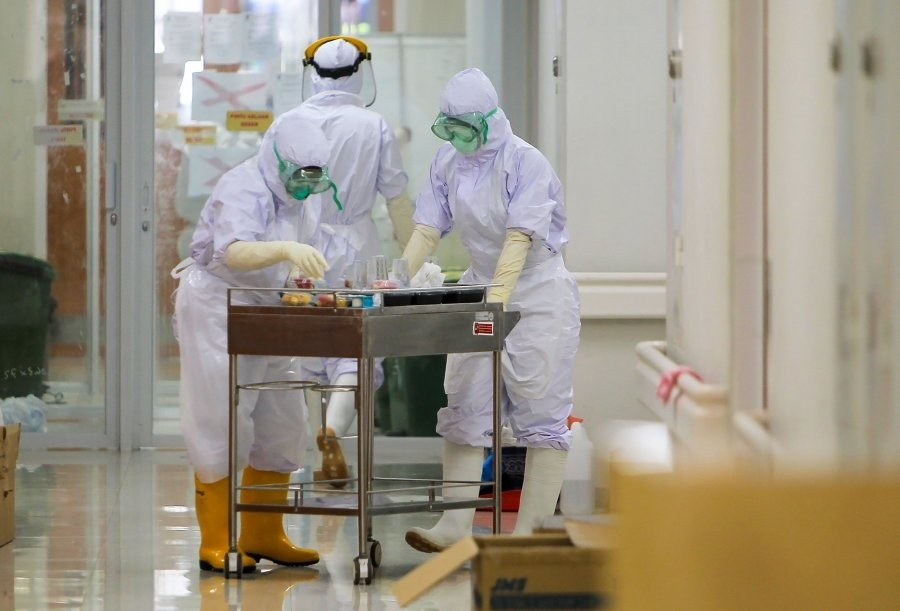Coverall: (410, 64, 580, 454), (173, 107, 332, 472), (266, 37, 399, 372)
Face_Shield: (300, 33, 378, 108)
Gloves: (217, 237, 332, 280), (477, 224, 532, 313), (395, 225, 444, 291)
Goggles: (276, 158, 334, 193), (428, 114, 489, 143)
with_mask: (284, 169, 318, 203), (445, 124, 479, 155)
